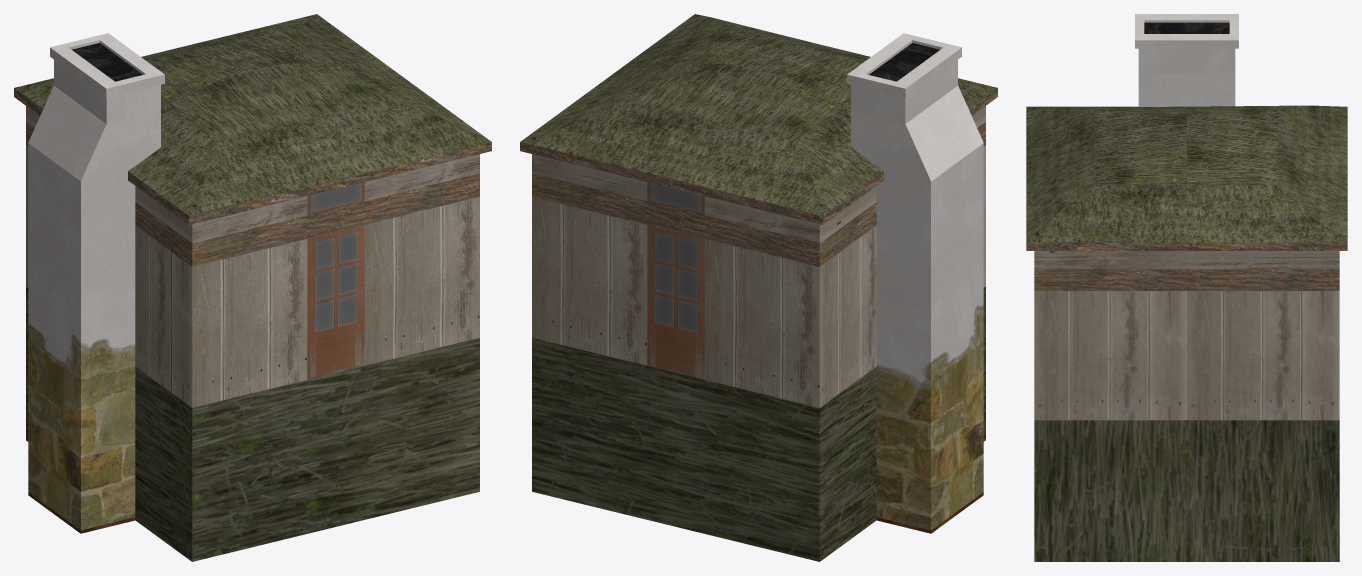
Rendered from bakery.obj.
The picture shows the model from 3 angles, left to right: view 1: azimuth 30°, elevation 25°; view 2: azimuth 150°, elevation 25°; view 3: azimuth 270°, elevation 25°; orthographic projection. The views are drawn at different scales.
Parts seen in each view (by area): view 1: Cube.006; view 2: Cube.006; view 3: Cube.006.
Boxes of the visible parts, <box> form: Cube.006: <box>14,14,491,561</box>; Cube.006: <box>520,14,997,561</box>; Cube.006: <box>1026,14,1347,561</box>.
Bounding box in the file's own units: 4.81 × 5.79 × 4.17.
